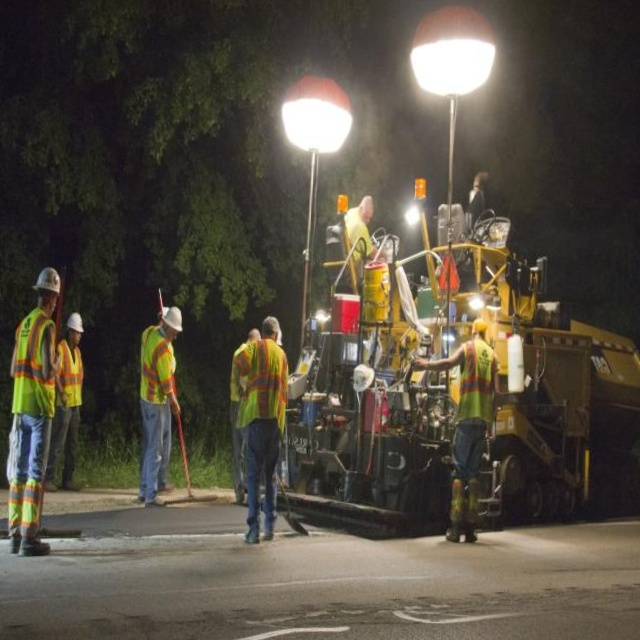Con_Casco: (31, 265, 62, 307), (65, 312, 85, 341)
Con_Chaleco: (7, 307, 60, 418), (234, 338, 289, 431), (453, 338, 496, 422), (135, 325, 175, 407), (56, 341, 86, 412)
